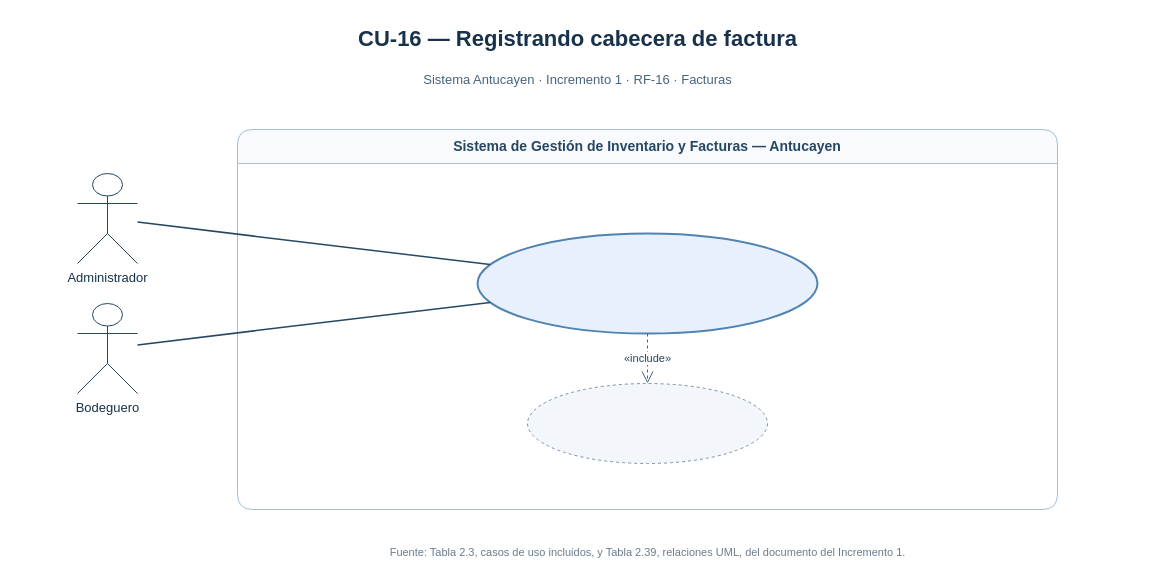
This 1154x582 diagram has some shape labels left out. The shapes that lost their labels are listed below. From the top down, each one's centre as x and y in pixels, then its label:
At [647,283]: "CU-16 Registrando cabecera de factura".
At [647,423]: "CU-21 Validando número de factura único por proveedor".
